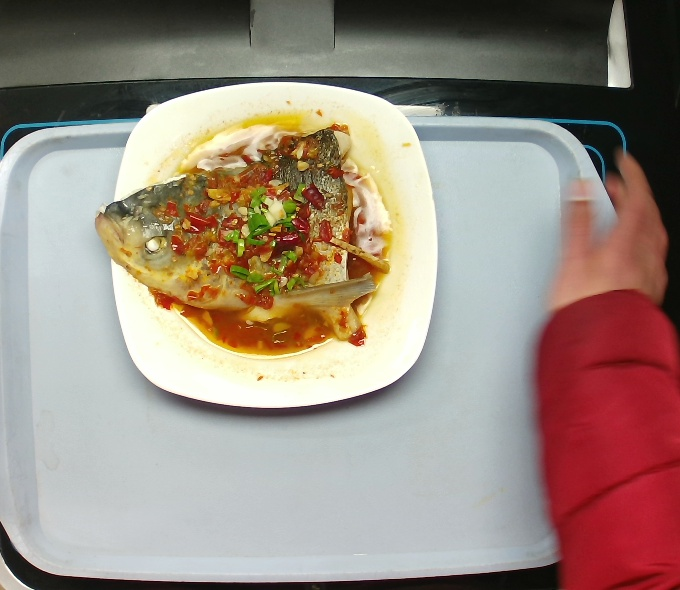wcq-DuoJiaoYuTou: (91, 119, 392, 349)
